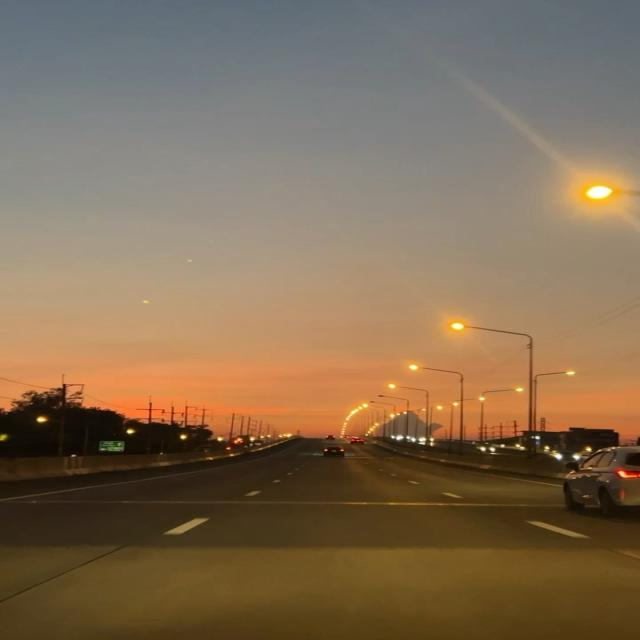Poth-hole: (162, 481, 484, 577)
